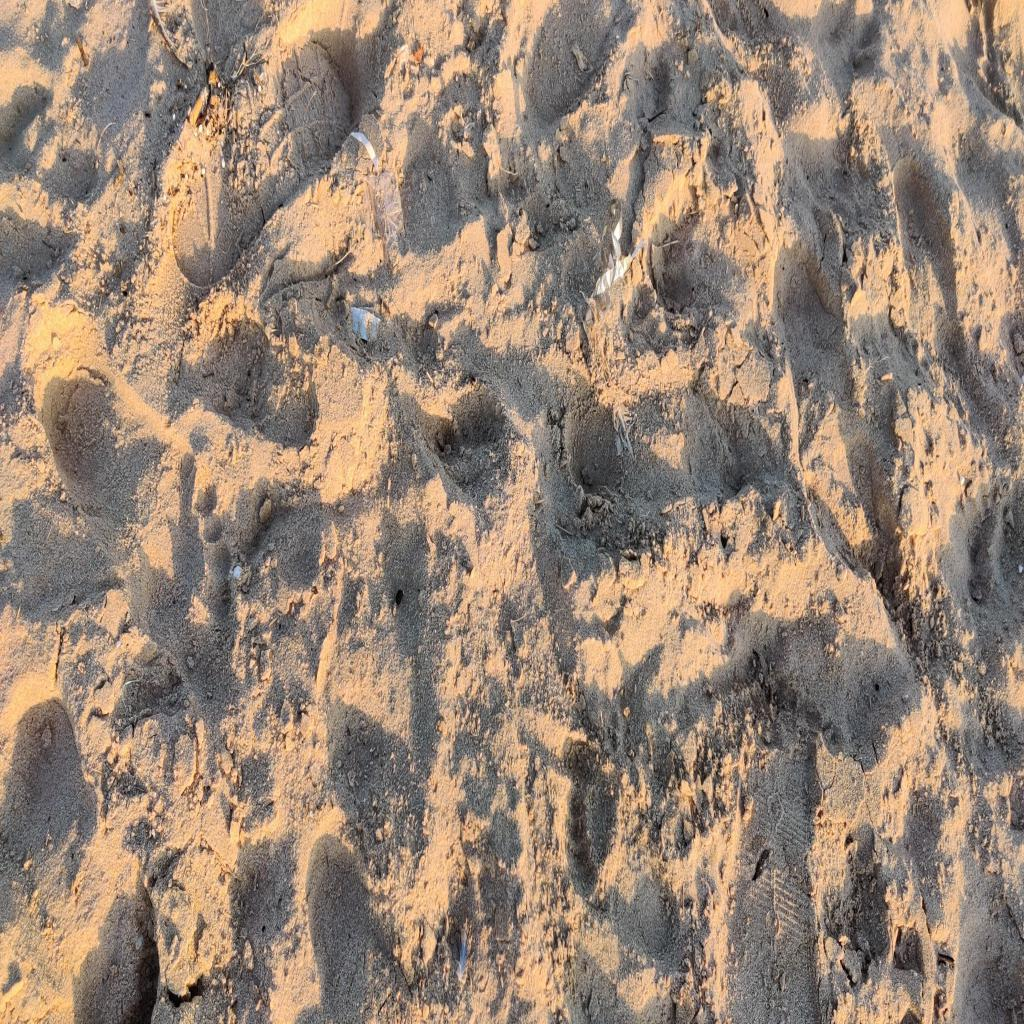Plastic film: (350, 132, 405, 272), (586, 204, 644, 332)
Unlabeled litter: (350, 307, 380, 340)
